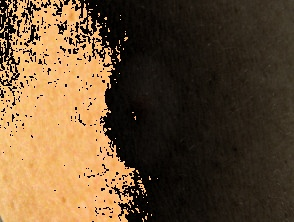vitiligo: (80, 27, 210, 195)
